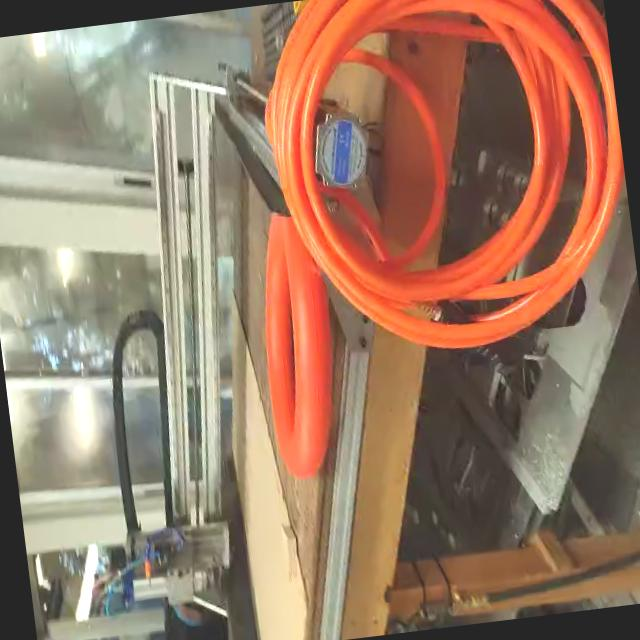note: (245, 201, 347, 483)
